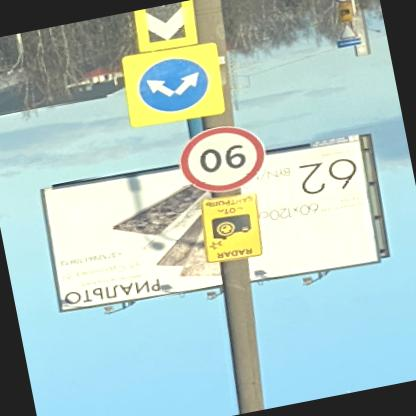speedlimit: (177, 120, 274, 200), (333, 0, 355, 5)
